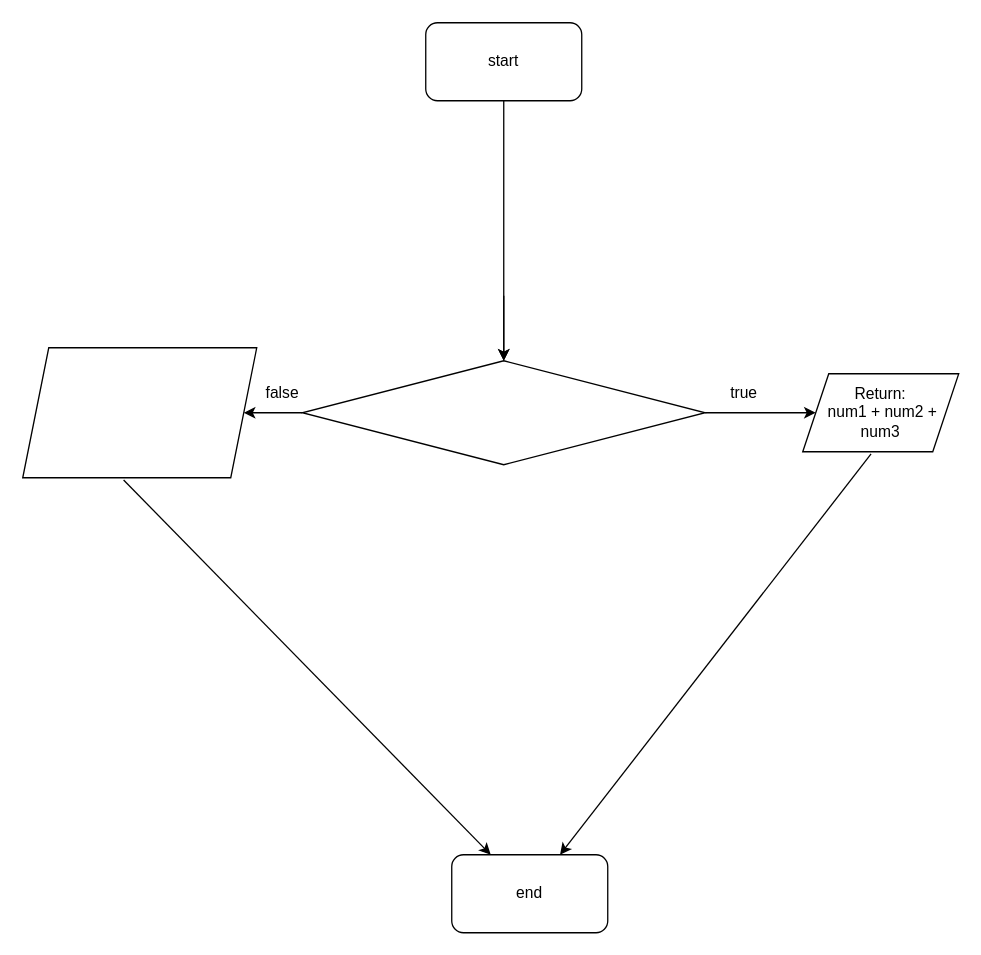
Image size: 981x955. Some labels were removed from this diagram. The centre of each missing label's shape, as x and y in pixels:
"Find the maximum of num1, num2, and num3 Return: maximum number" goes at (139,412).
"Input: num1, num2, num3, isSum" goes at (503,412).
